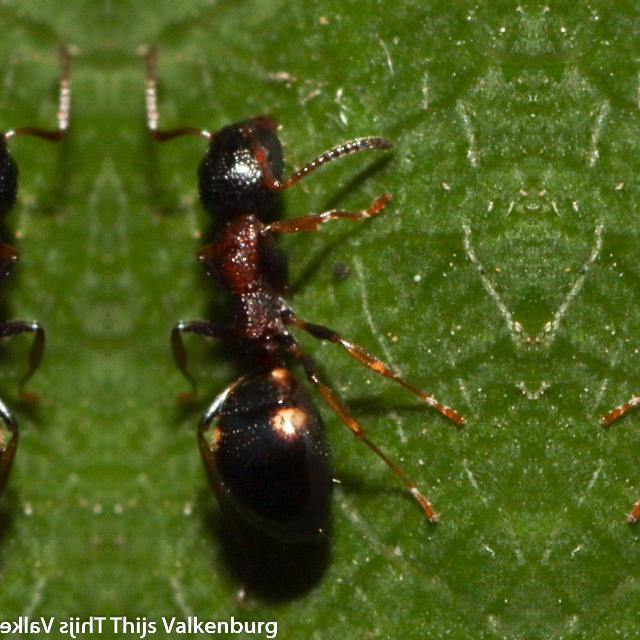Dolichoderus: (138, 39, 410, 564), (0, 39, 76, 564)
